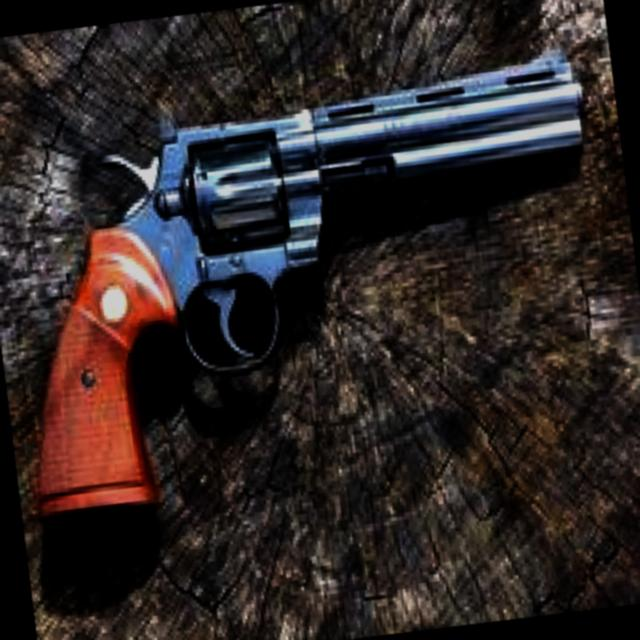revolver: (0, 0, 640, 561)
